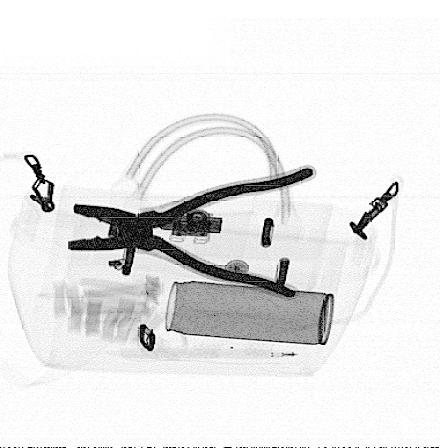Pliers: (67, 165, 315, 301)
